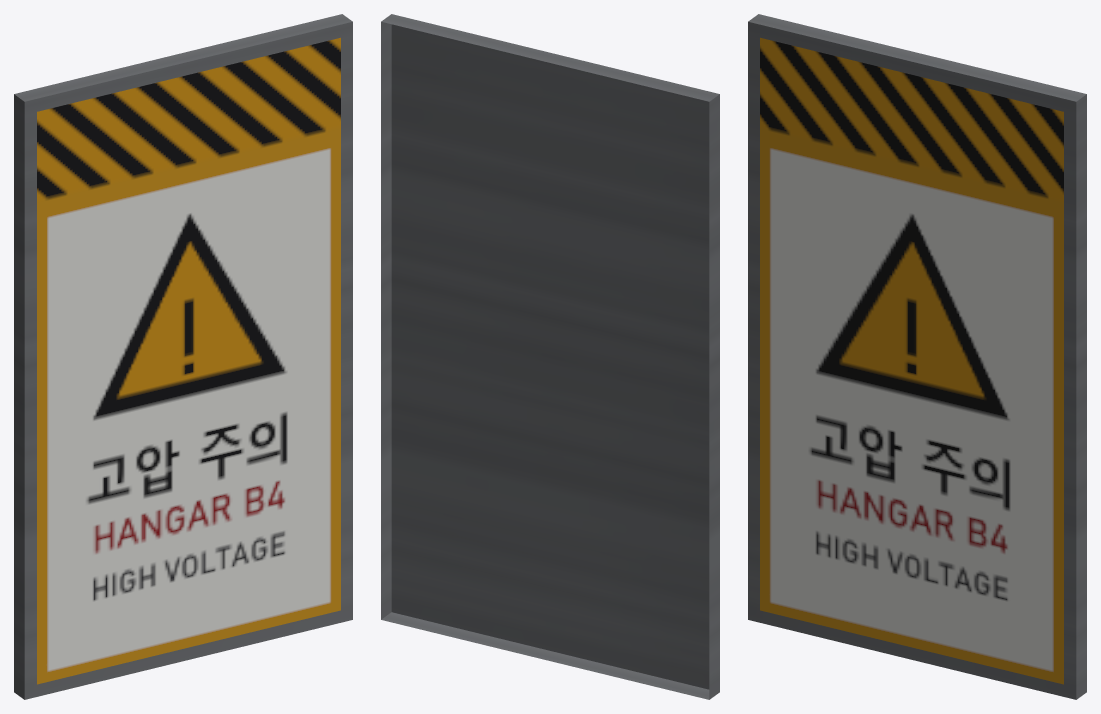
File: SM_LFD_WarnPlate.fbx
3 views of the same model, side by side, from view 1: azimuth 30°, elevation 25°; view 2: azimuth 150°, elevation 25°; view 3: azimuth 330°, elevation 25° (orthographic).
Parts seen in each view (by area): view 1: SM_LFD_WarnPlate; view 2: SM_LFD_WarnPlate; view 3: SM_LFD_WarnPlate.
Boxes of the visible parts, x1=… form: SM_LFD_WarnPlate: x1=14, y1=14, x2=352, y2=699; SM_LFD_WarnPlate: x1=381, y1=14, x2=719, y2=699; SM_LFD_WarnPlate: x1=748, y1=14, x2=1086, y2=699.
Bounding box in the file's own units: 0.54 × 0.94 × 0.031.
